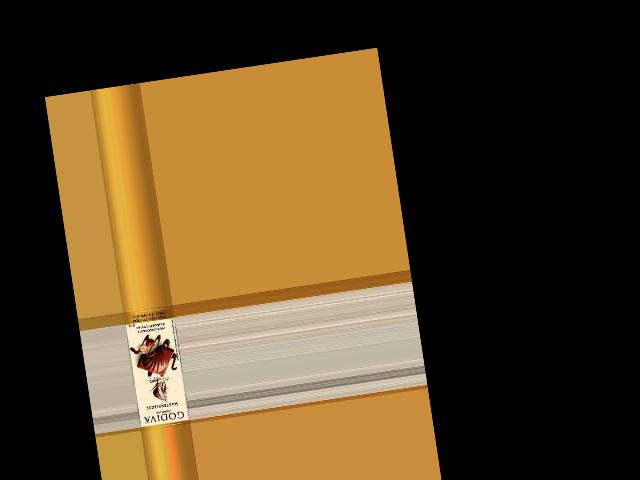chocolate: (123, 305, 189, 430)
